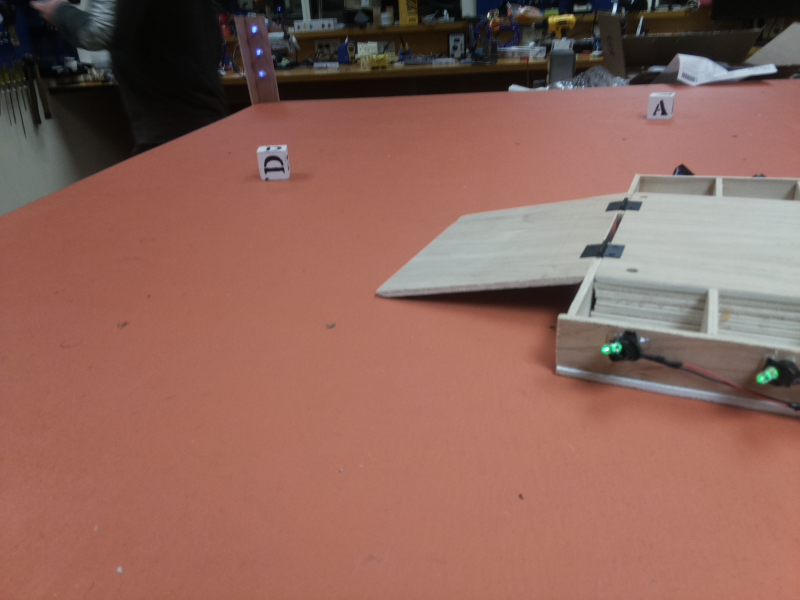blockA: (645, 89, 674, 121)
blockD: (257, 145, 293, 180)
corner: (232, 16, 284, 102)
side: (554, 316, 800, 418), (627, 159, 800, 184)
slope: (367, 191, 630, 297)
